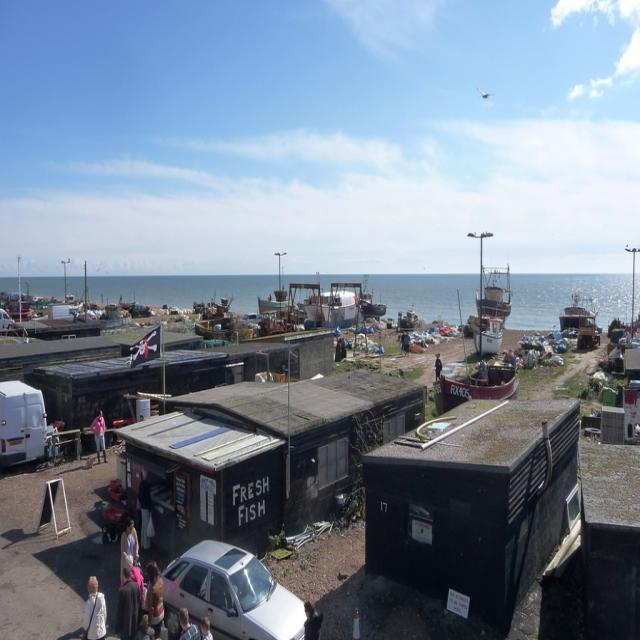car: (147, 546, 296, 634)
